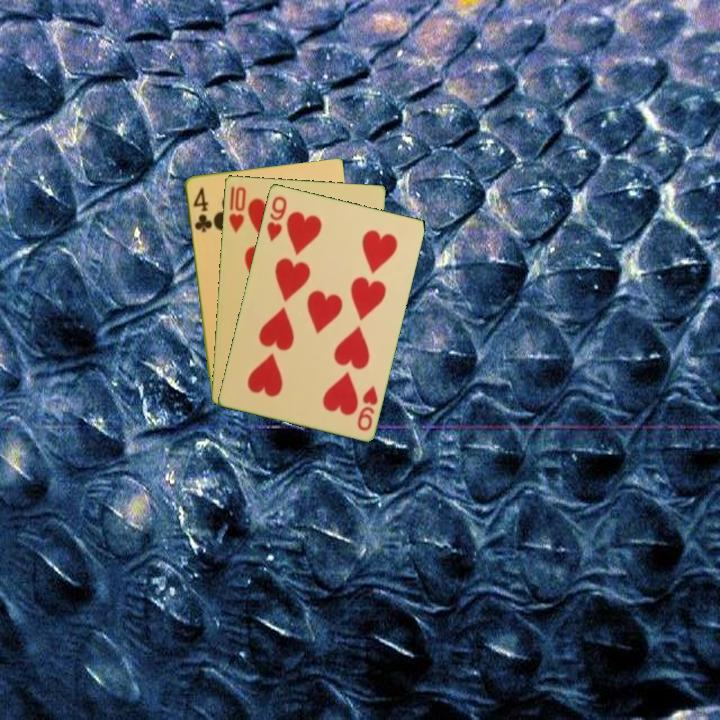10h: (225, 182, 248, 235)
4c: (189, 184, 214, 235)
9h: (353, 382, 381, 433), (263, 192, 289, 244)
